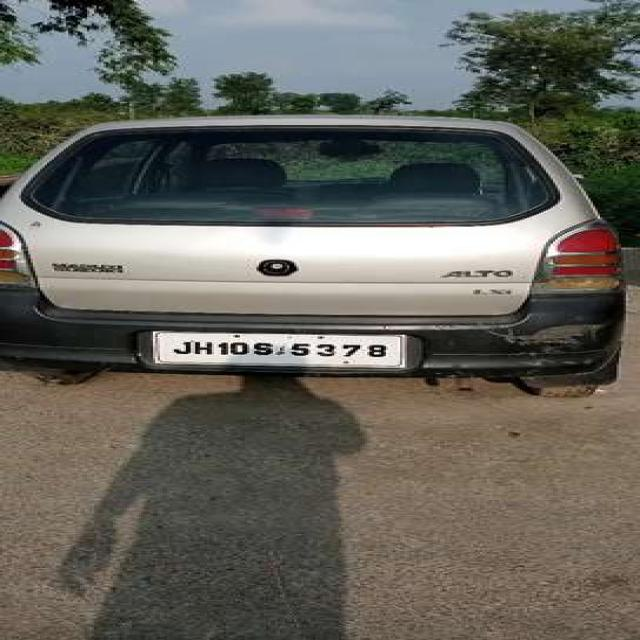licenseplate: (134, 328, 419, 371)
